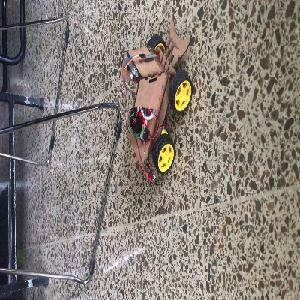Robot: (118, 17, 192, 180)
